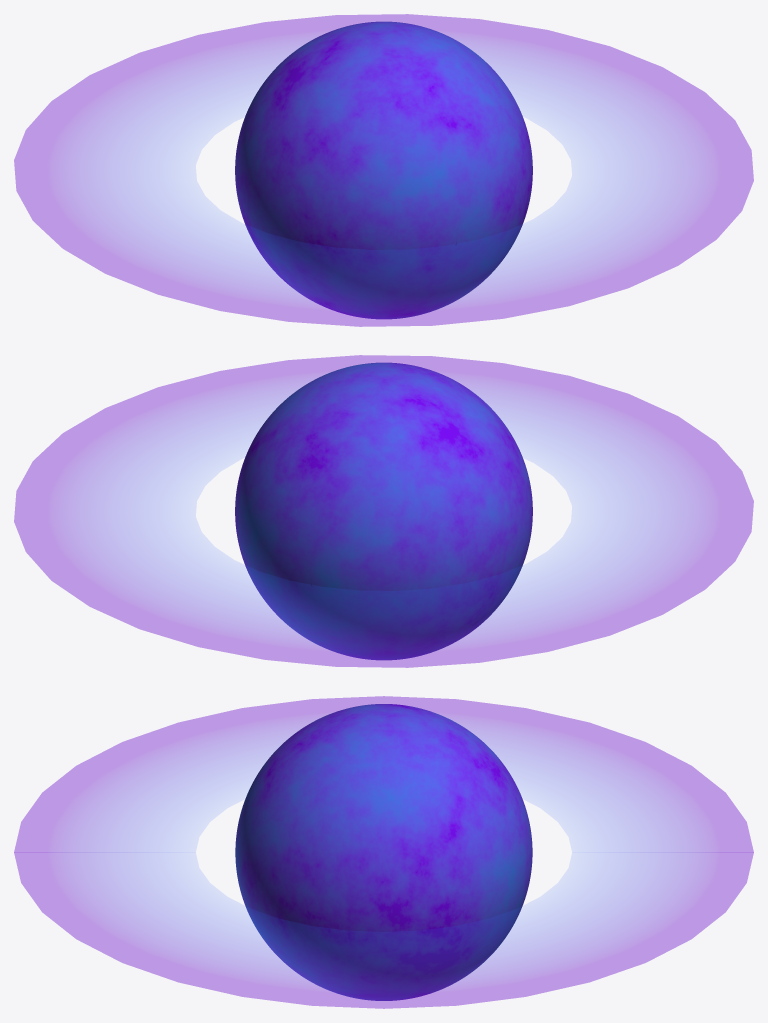
Rendered from StylizedPlanet.glb.
The picture shows the model from 3 angles, top to bottom: view 1: azimuth 30°, elevation 25°; view 2: azimuth 150°, elevation 25°; view 3: azimuth 270°, elevation 25°; orthographic projection.
Parts seen in each view (by area): view 1: Circle, Icosphere; view 2: Circle, Icosphere; view 3: Circle, Icosphere.
Boxes of the visible parts, bbox=[...] form: Circle: bbox=[14, 14, 753, 326]; Icosphere: bbox=[235, 21, 532, 319]; Circle: bbox=[14, 355, 753, 667]; Icosphere: bbox=[235, 362, 532, 660]; Circle: bbox=[14, 696, 753, 1008]; Icosphere: bbox=[235, 704, 532, 1000].
Bounding box in the file's own units: 4.98 × 2 × 4.98.
Materials: 2 (2 with a texture image).
